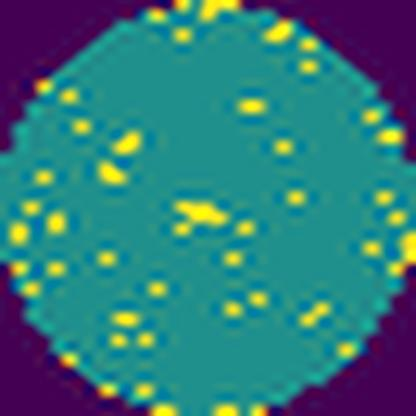Center: (162, 187, 230, 241)
